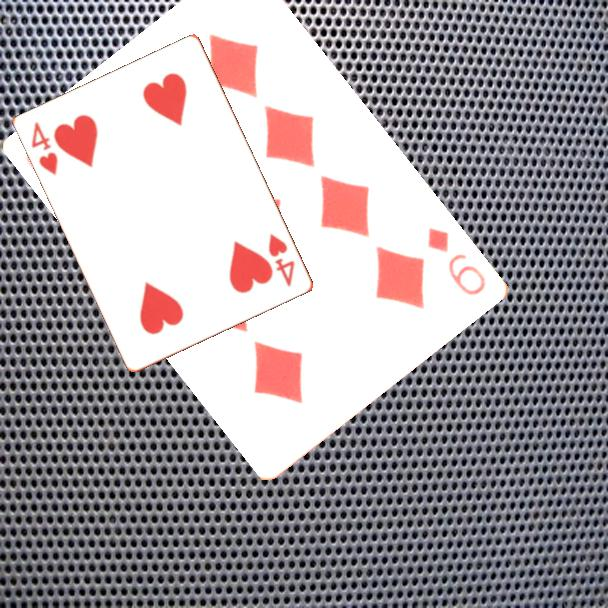d09: (424, 224, 490, 299)
h04: (28, 118, 61, 179), (265, 230, 298, 290)
